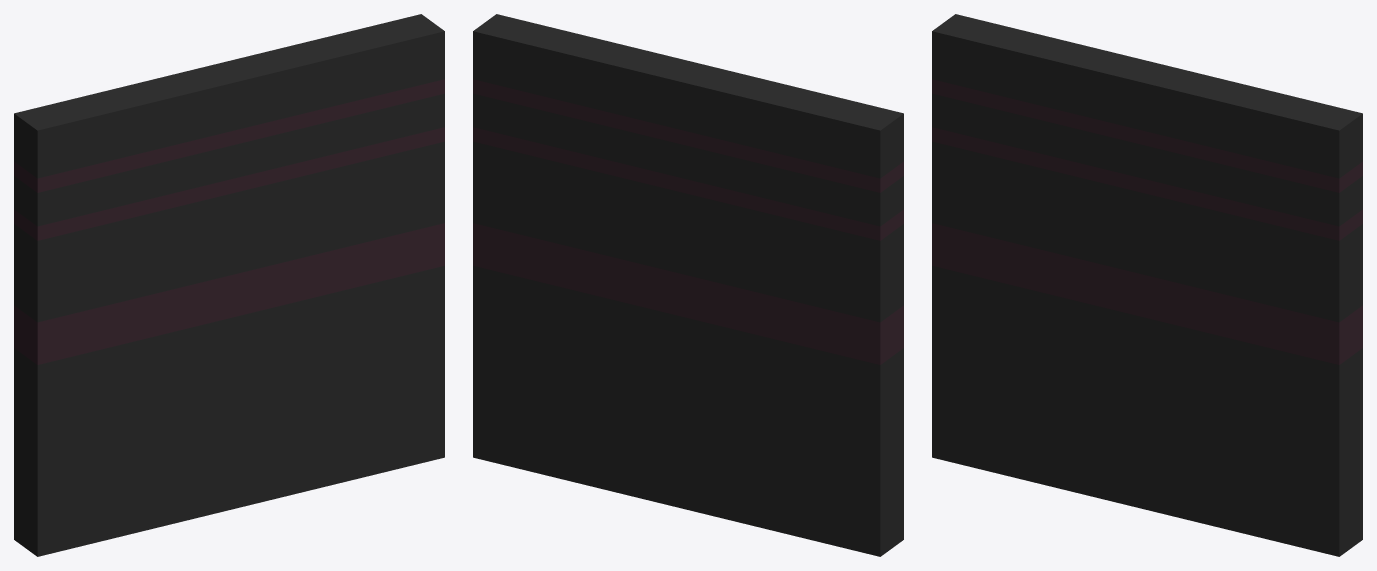
The model's file is Wall 1.fbx.
The picture shows the model from 3 angles, left to right: view 1: azimuth 30°, elevation 25°; view 2: azimuth 150°, elevation 25°; view 3: azimuth 330°, elevation 25°; orthographic projection.
Parts seen in each view (by area): view 1: Wall 1; view 2: Wall 1; view 3: Wall 1.
Part boxes in pixels (left/top/right/bottom): Wall 1: left=14, top=14, right=444, bottom=556; Wall 1: left=473, top=14, right=903, bottom=556; Wall 1: left=932, top=14, right=1362, bottom=556.
Bounding box in the file's own units: 2000 × 2000 × 200.
